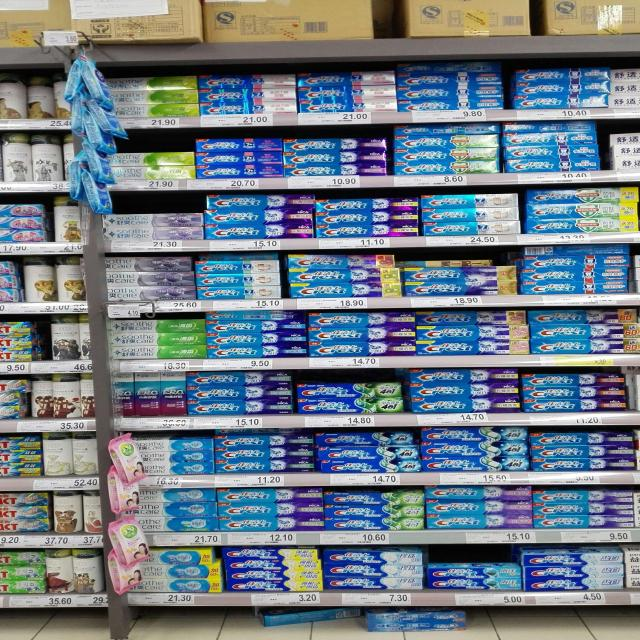unorganised: (389, 62, 503, 72), (398, 260, 493, 267)
